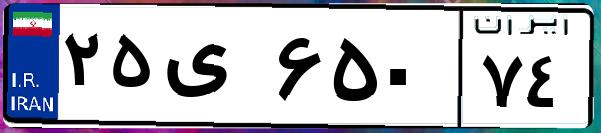0: (385, 28, 445, 110)
2: (57, 26, 110, 100)
4: (525, 38, 570, 115)
5: (330, 28, 385, 110), (110, 28, 158, 98)
6: (270, 28, 330, 110)
7: (475, 38, 525, 113)
ی: (158, 20, 270, 120)
